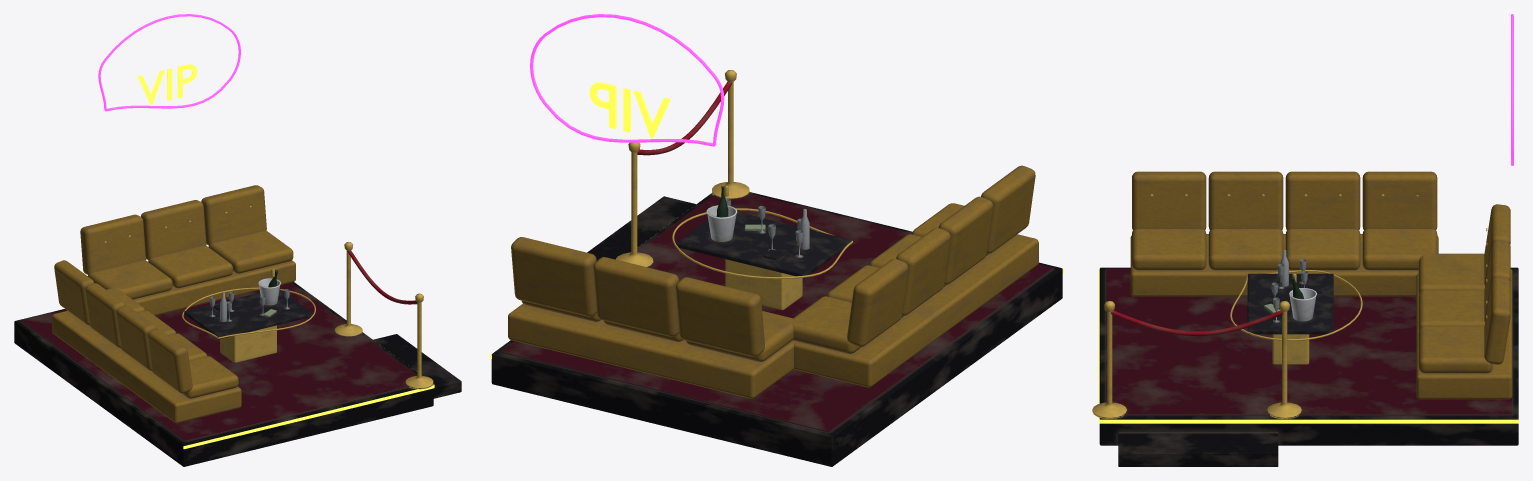
The model's file is klub_vip.glb.
3 views of the same model, side by side, from view 1: azimuth 30°, elevation 25°; view 2: azimuth 150°, elevation 25°; view 3: azimuth 270°, elevation 25° (orthographic). The views are drawn at different scales.
Parts seen in each view (by area): view 1: Kanapa, Podest, Stol, SwiatloRamka, SwiatloLed, SwiatloVip; view 2: Kanapa, Podest, Stol, SwiatloRamka, SwiatloVip; view 3: Podest, Kanapa, Stol, SwiatloLed, SwiatloRamka.
Part boxes in pixels (x1,y1,x2,y2): Kanapa: (52,185,295,423); Podest: (14,242,461,466); Stol: (182,269,315,362); SwiatloRamka: (98,14,240,111); SwiatloLed: (183,384,434,449); SwiatloVip: (137,64,197,105); Kanapa: (508,165,1038,398); Podest: (491,70,1062,466); Stol: (672,185,852,310); SwiatloRamka: (530,14,724,146); SwiatloVip: (589,82,670,138); Podest: (1092,267,1518,466); Kanapa: (1130,171,1512,399); Stol: (1230,249,1362,364); SwiatloLed: (1098,268,1518,423); SwiatloRamka: (1511,14,1513,165).
Size of the model in its own units: 3.31 by 3.23 by 3.46.
Materials: 5 (3 with a texture image).
